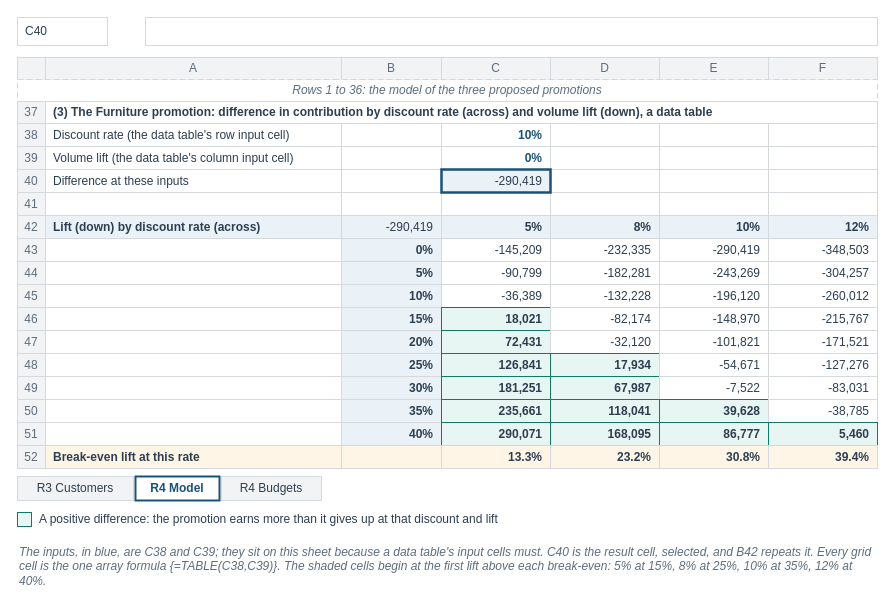
Image size: 895x611. Some labels were removed from this diagram. The box of each missing label's shape, as (x1, y1, x2, y2) in pixels:
=$C$7*(1+C39)*($C$8*(1-C38)*(1-$C$11)-$C$9)-$C$13: (144, 16, 878, 46)
fx: (110, 16, 142, 46)
